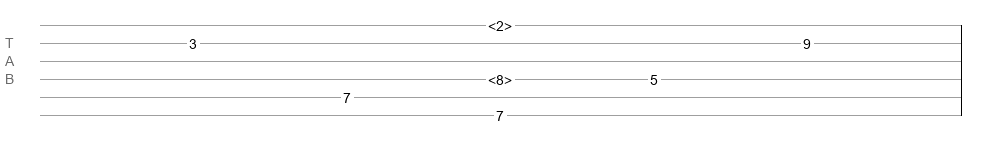3: (189, 36, 197, 46)
5: (650, 72, 658, 82)
7: (343, 90, 351, 100), (496, 108, 504, 118)
9: (803, 36, 811, 46)
harmonic: (488, 72, 512, 82), (488, 18, 512, 28)
